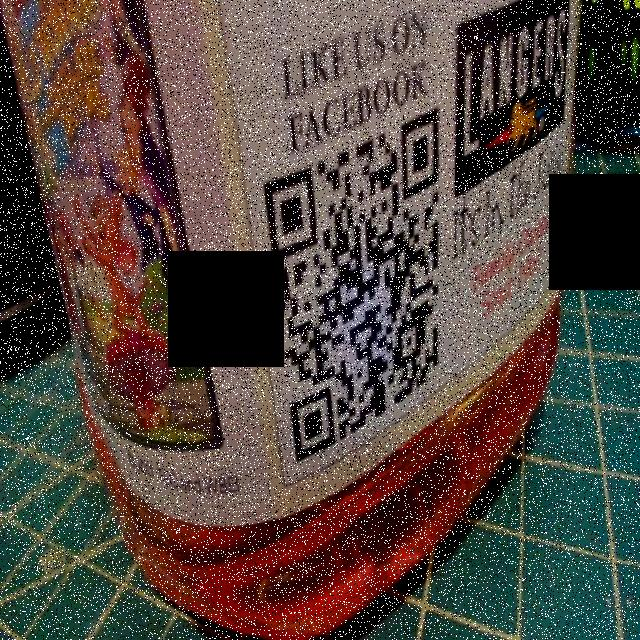QR_CODE: (250, 96, 455, 478)
